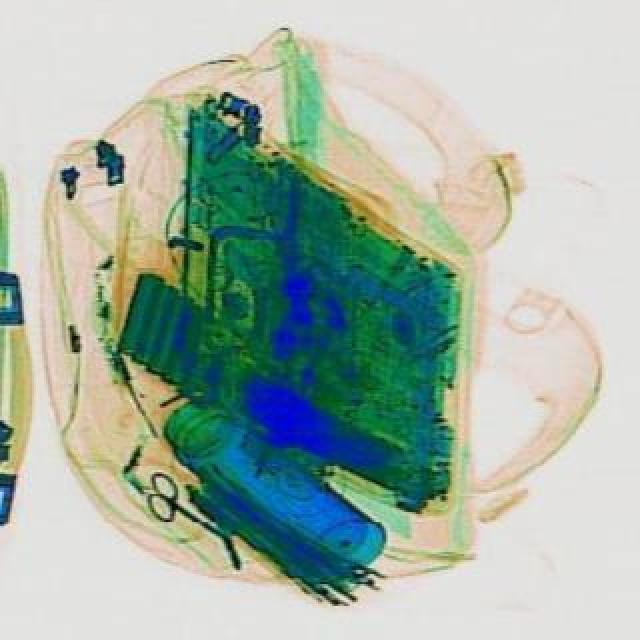pliers: (138, 466, 250, 554)
